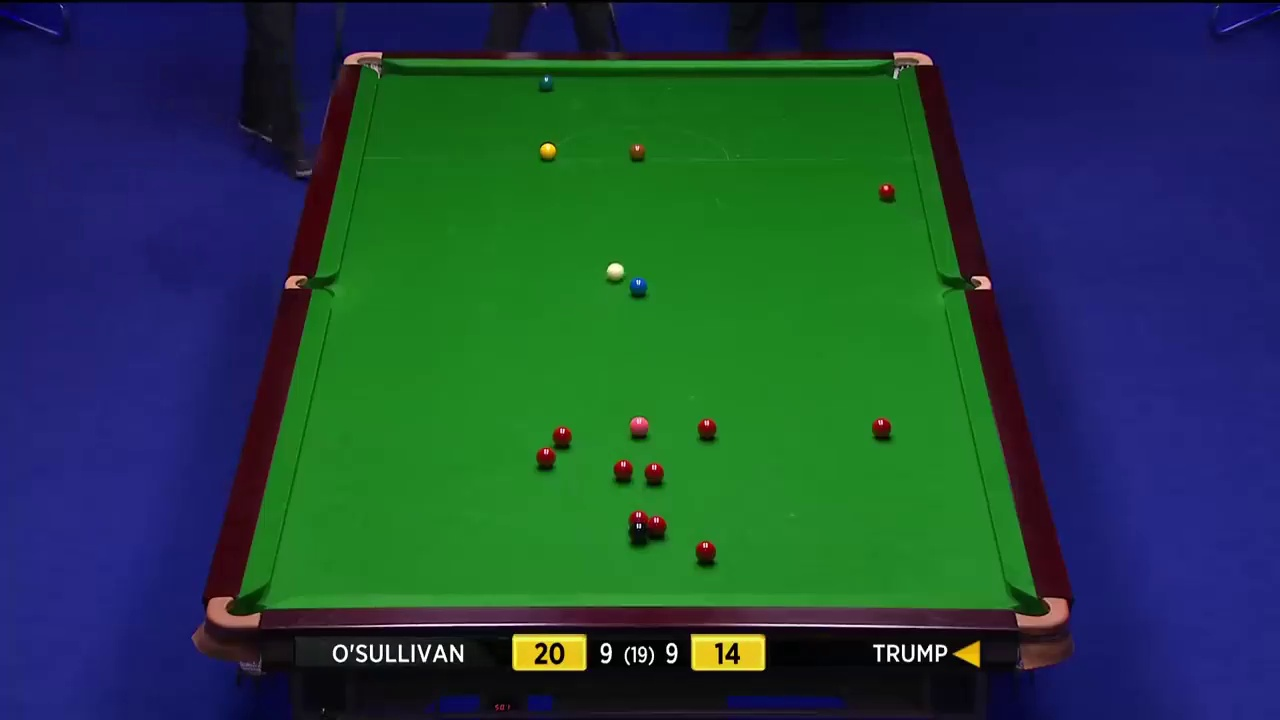ball: (534, 447, 561, 469), (551, 422, 574, 447), (624, 520, 647, 543), (870, 416, 894, 438), (625, 416, 647, 439), (627, 277, 650, 298), (611, 459, 634, 480), (537, 139, 558, 160), (643, 460, 664, 481), (694, 543, 715, 563), (604, 261, 625, 278), (877, 182, 895, 199), (698, 417, 714, 436), (628, 141, 643, 161), (537, 73, 553, 89)
